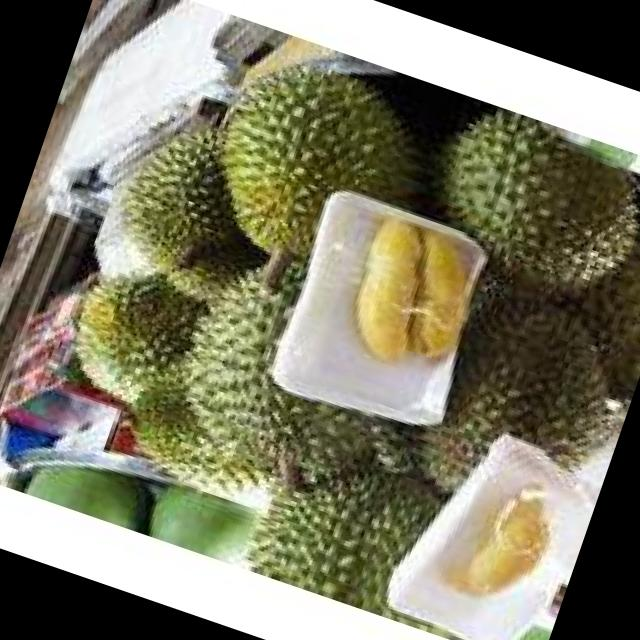fruit: (383, 110, 640, 504), (162, 17, 420, 304), (56, 56, 276, 317), (220, 412, 461, 628), (36, 231, 232, 438)
